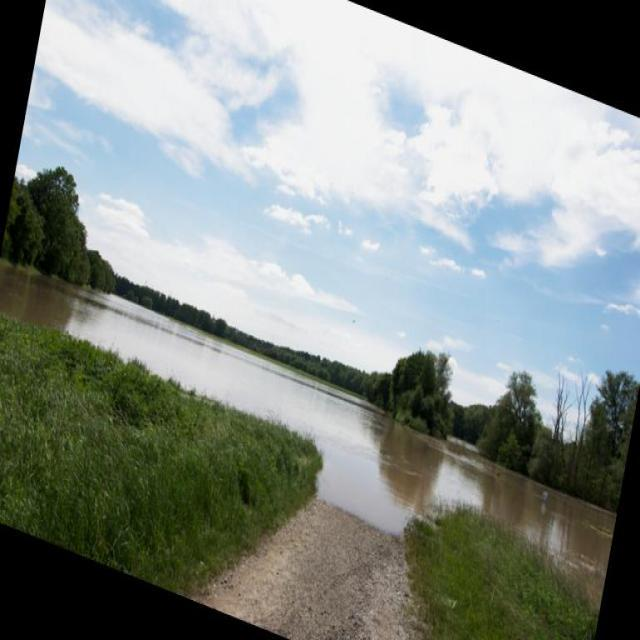flood: (0, 218, 626, 624)
